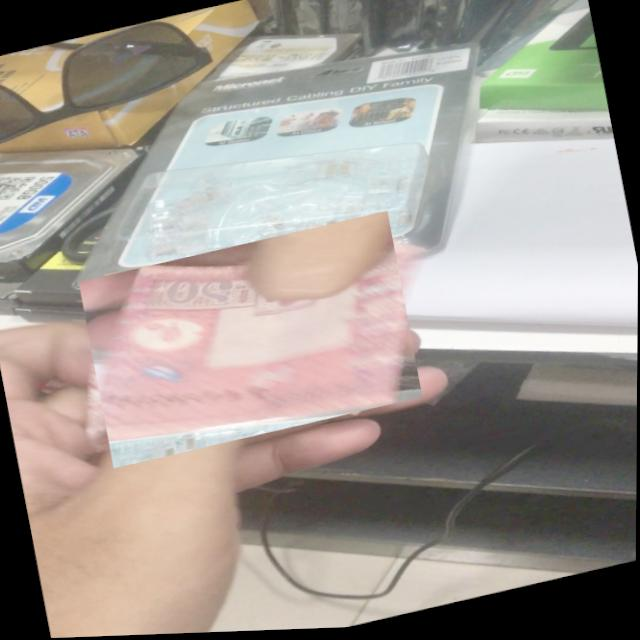Taka: (78, 213, 425, 470)
